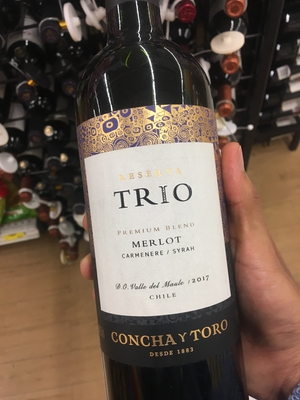trio merlot: (67, 11, 251, 387)
